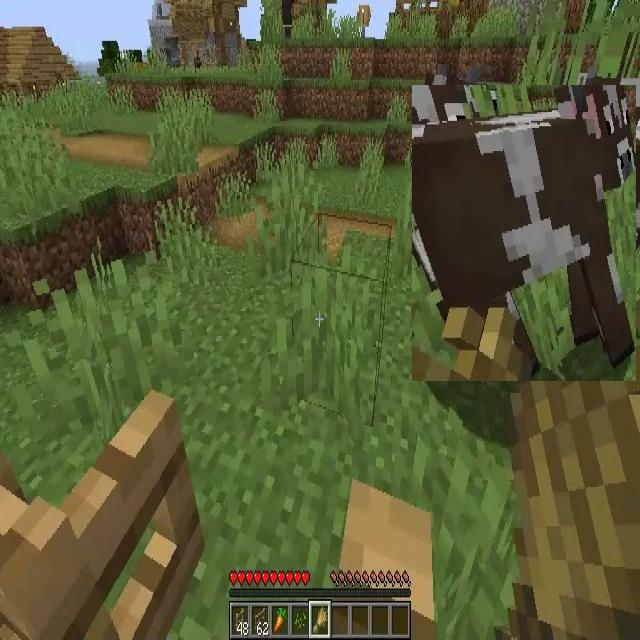cow: (412, 85, 636, 381)
